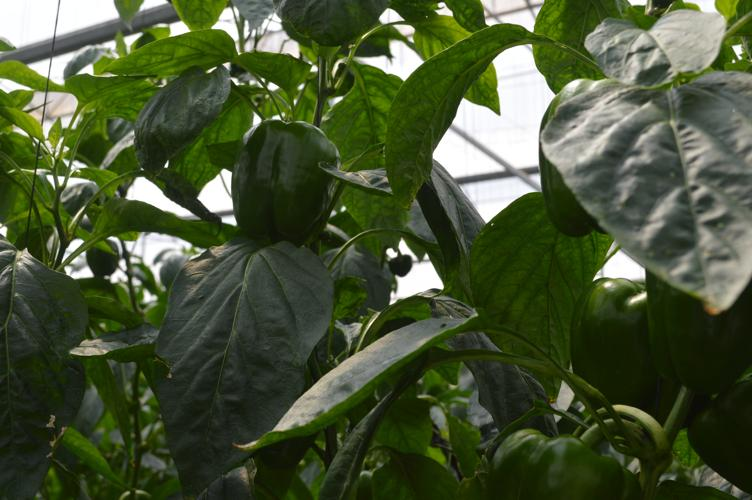BellPepper: (518, 76, 620, 240), (224, 119, 339, 241), (569, 274, 661, 416), (485, 431, 624, 497)
